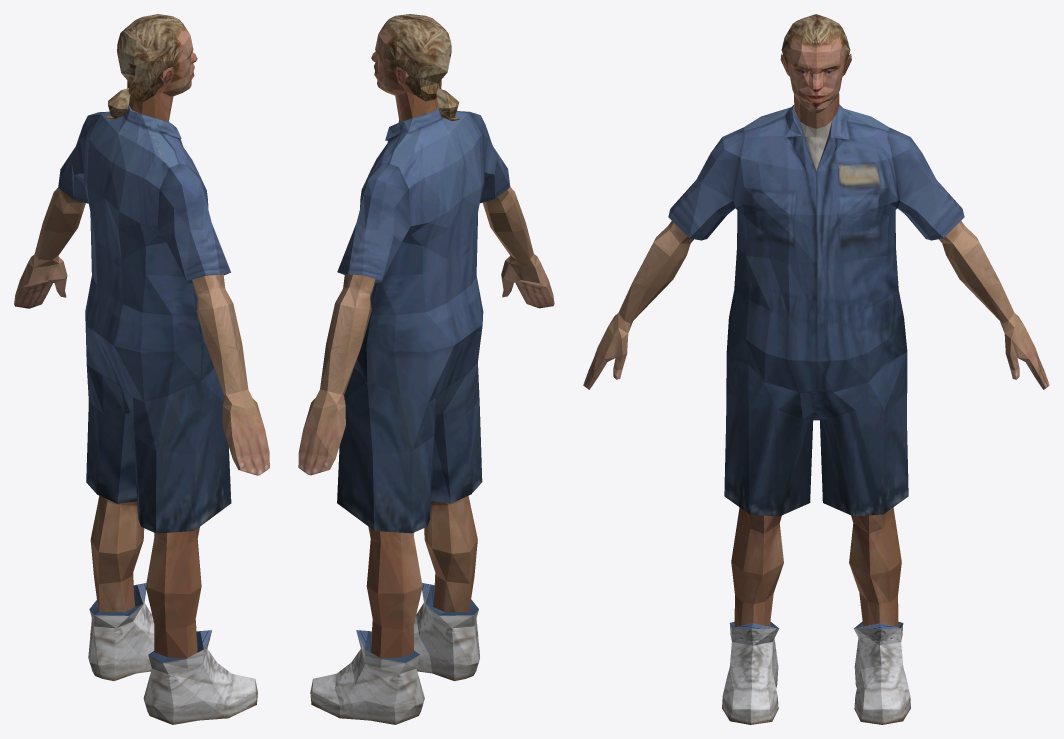
The model's file is dwayne.obj.
3 renders of one model, left to right at view 1: azimuth 30°, elevation 25°; view 2: azimuth 150°, elevation 25°; view 3: azimuth 270°, elevation 25°, orthographic.
Visible parts, largest first — view 1: _Pelvis; view 2: _Pelvis; view 3: _Pelvis.
Boxes of the visible parts, x1,y1,x2,y2 form: _Pelvis: [14, 14, 269, 724]; _Pelvis: [298, 14, 554, 724]; _Pelvis: [583, 14, 1049, 724].
Bounding box in the file's own units: 0.3635 × 1.86 × 1.17.
1 material, 1 textured.
